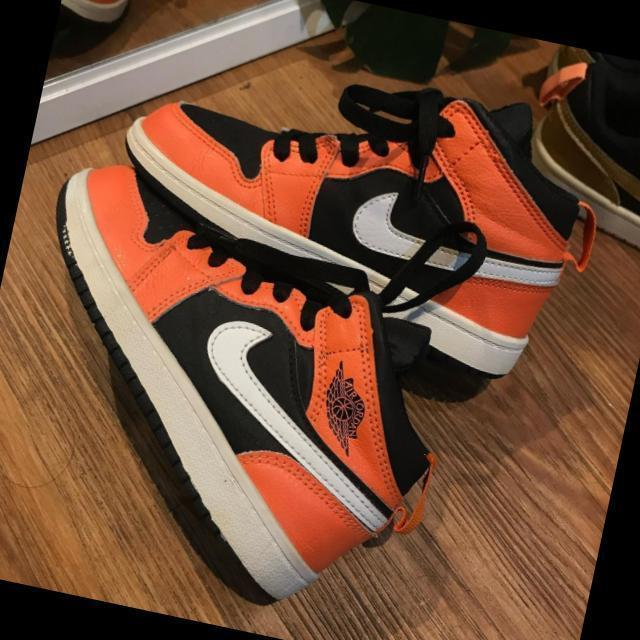nike fake jordan 1: (0, 151, 480, 628), (90, 20, 602, 397)
